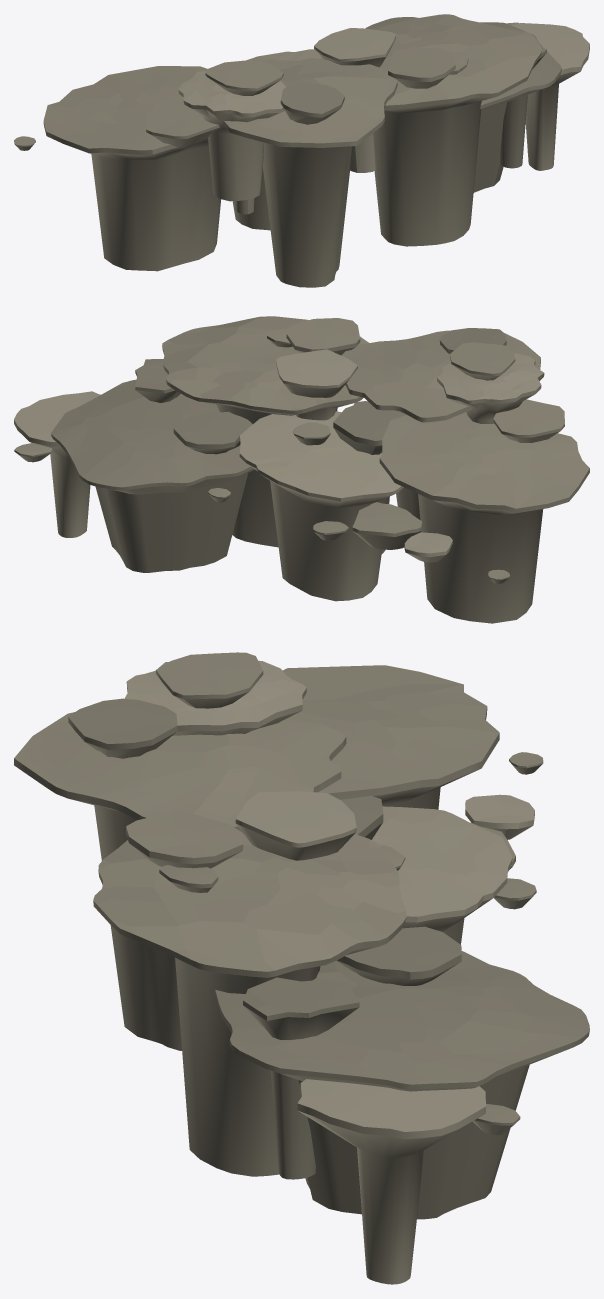
File: coral_tables_A_dense.fbx
The picture shows the model from 3 angles, top to bottom: view 1: azimuth 30°, elevation 25°; view 2: azimuth 150°, elevation 25°; view 3: azimuth 270°, elevation 25°; orthographic projection. The views are drawn at different scales.
Visible parts, largest first — view 1: coral_tables_A_big_A, coral_tables_A_big_E, coral_tables_A_big_B, coral_tables_A_F, coral_tables_A_I, coral_tables_A_big_C, coral_tables_A_H, coral_tables_A_N, coral_tables_A_P, coral_tables_A_L, coral_tables_A_M, coral_tables_A_O (+1 smaller); view 2: coral_tables_A_big_E, coral_tables_A_big_C, coral_tables_A_big_D, coral_tables_A_big_A, coral_tables_A_big_B, coral_tables_A_I, coral_tables_A_F, coral_tables_A_H, coral_tables_A_Q, coral_tables_A_K, coral_tables_A_G, coral_tables_A_L (+8 smaller); view 3: coral_tables_A_big_A, coral_tables_A_big_C, coral_tables_A_big_B, coral_tables_A_big_E, coral_tables_A_I, coral_tables_A_big_D, coral_tables_A_O, coral_tables_A_H, coral_tables_A_F, coral_tables_A_P, coral_tables_A_M, coral_tables_A_Q (+6 smaller).
Boxes of the visible parts, x1,y1,x2,y2 form: coral_tables_A_big_A: (320,14,541,246); coral_tables_A_big_E: (43,66,220,271); coral_tables_A_big_B: (223,58,397,287); coral_tables_A_F: (178,71,286,201); coral_tables_A_I: (512,23,589,170); coral_tables_A_big_C: (365,17,561,192); coral_tables_A_H: (314,28,395,172); coral_tables_A_N: (205,60,283,214); coral_tables_A_P: (388,47,455,88); coral_tables_A_L: (146,105,219,147); coral_tables_A_M: (280,82,344,124); coral_tables_A_O: (500,47,546,168); coral_tables_A_big_E: (379,412,589,623); coral_tables_A_big_C: (51,379,254,572); coral_tables_A_big_D: (239,411,403,601); coral_tables_A_big_A: (162,316,368,547); coral_tables_A_big_B: (341,330,540,532); coral_tables_A_I: (14,391,100,537); coral_tables_A_F: (437,353,544,423); coral_tables_A_H: (276,349,357,420); coral_tables_A_Q: (173,411,252,454); coral_tables_A_K: (352,502,421,549); coral_tables_A_G: (333,401,406,553); coral_tables_A_L: (493,399,564,442); coral_tables_A_big_A: (93,833,406,1176); coral_tables_A_big_C: (215,951,589,1219); coral_tables_A_big_B: (14,712,346,1050); coral_tables_A_big_E: (282,665,499,809); coral_tables_A_I: (297,1079,485,1284); coral_tables_A_big_D: (372,806,512,944); coral_tables_A_O: (243,977,359,1179); coral_tables_A_H: (235,791,356,860); coral_tables_A_F: (124,660,306,735); coral_tables_A_P: (126,812,243,868); coral_tables_A_M: (68,698,177,758); coral_tables_A_Q: (337,926,461,985).
Size of the model in its own units: 506 by 196 by 303.
